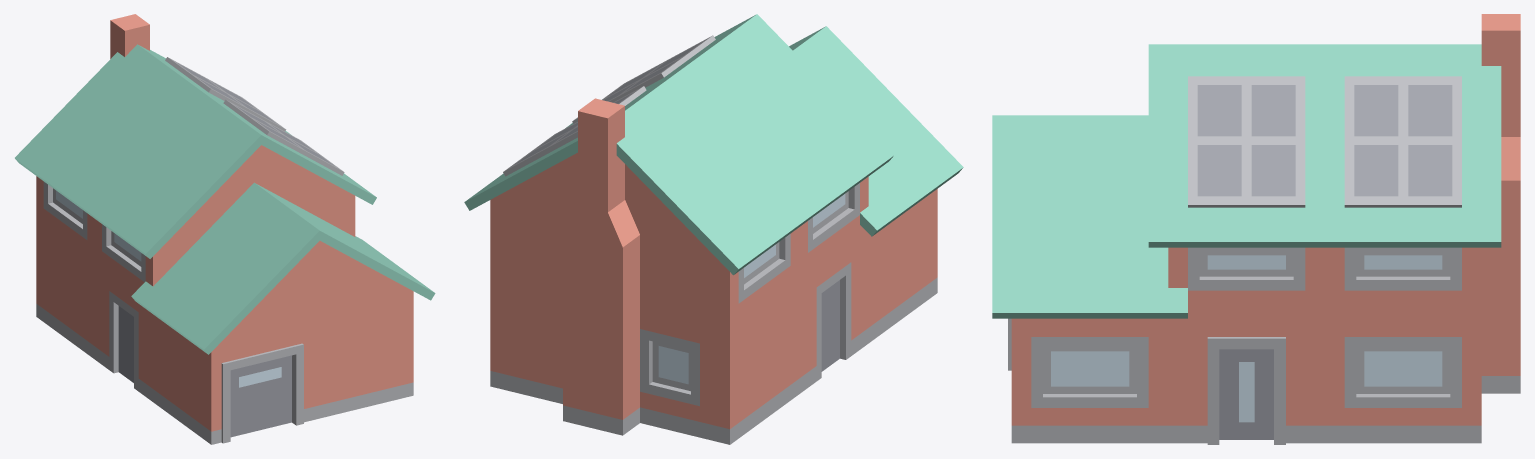
File: house13.fbx
The picture shows the model from 3 angles, left to right: view 1: azimuth 30°, elevation 25°; view 2: azimuth 150°, elevation 25°; view 3: azimuth 270°, elevation 25°; orthographic projection. The views are drawn at different scales.
Visible parts, largest first — view 1: house_type13; view 2: house_type13; view 3: house_type13.
Boxes of the visible parts, x1,y1,x2,y2 form: house_type13: (15, 14, 435, 444); house_type13: (464, 14, 963, 444); house_type13: (992, 14, 1520, 444).
Bounding box in the file's own units: 916 × 1000 × 1350.
